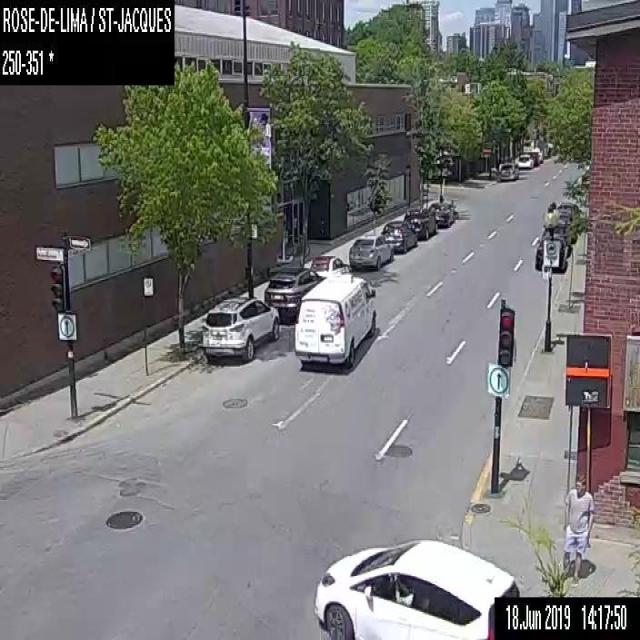pedestrian: (556, 475, 596, 589)
vehicle: (313, 534, 520, 638), (295, 274, 379, 368), (198, 298, 277, 360), (264, 265, 324, 319), (535, 232, 572, 276), (349, 235, 394, 268), (379, 218, 418, 250), (403, 206, 437, 238), (309, 254, 351, 275), (428, 202, 456, 226), (496, 162, 518, 181), (515, 152, 533, 169)
